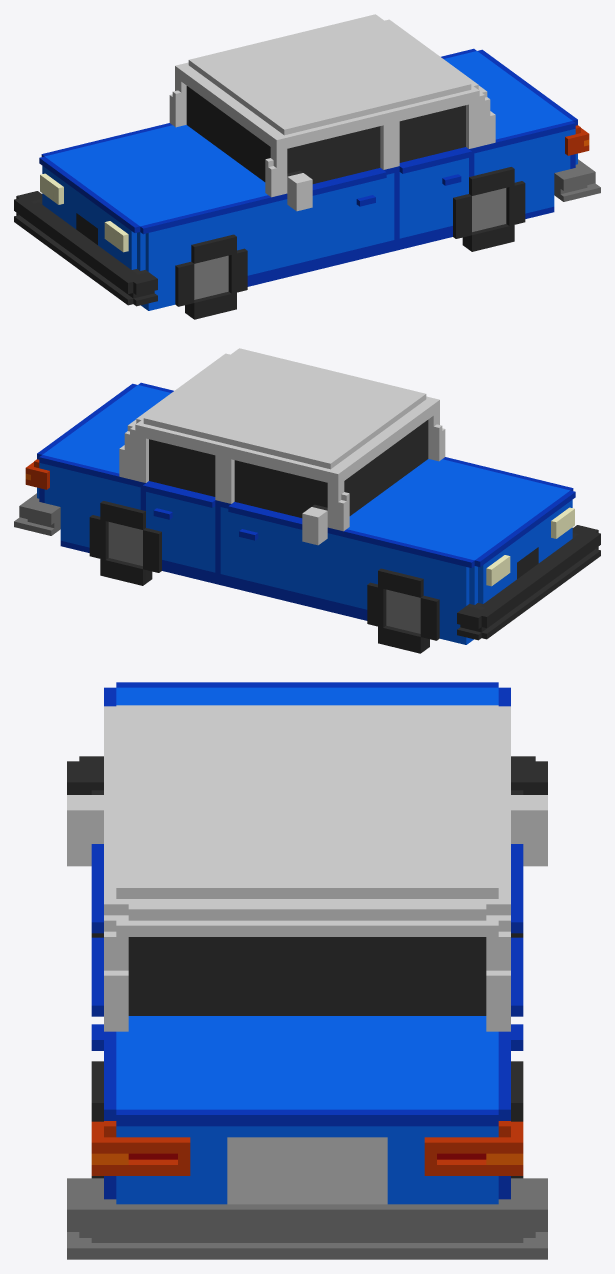
File: car-7.obj
3 views of the same model, one above another, from view 1: azimuth 30°, elevation 25°; view 2: azimuth 150°, elevation 25°; view 3: azimuth 270°, elevation 25° (orthographic). The views are drawn at different scales.
Bounding box in the file's own units: 8.8 × 2.9 × 3.9.
Materials: 1 (1 with a texture image).
